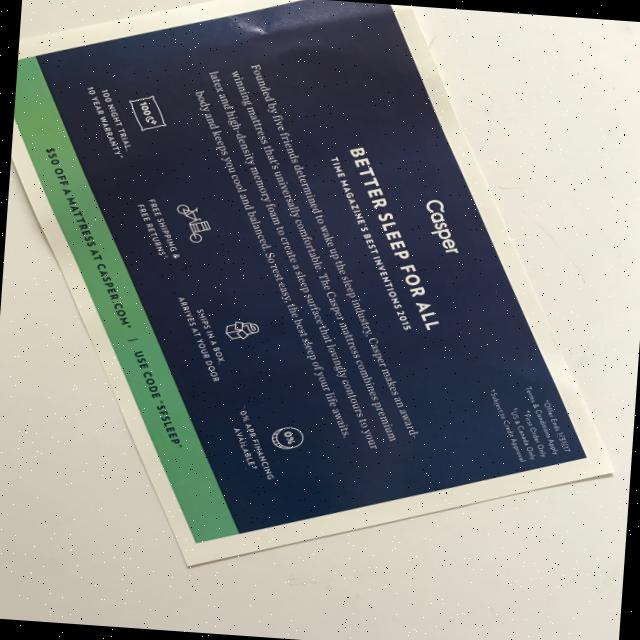paper: (0, 0, 640, 596)
